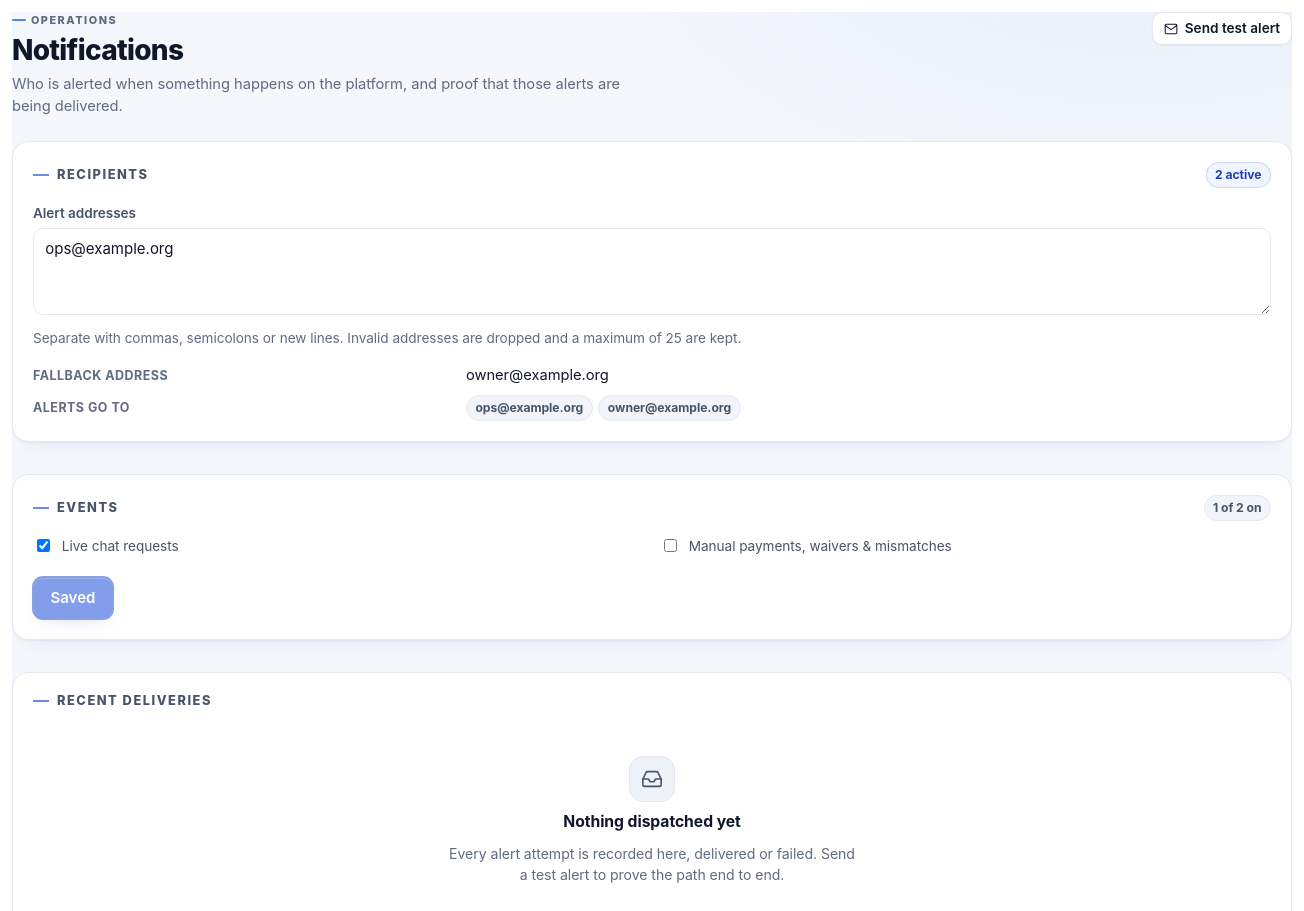
Test case: Admin notifications › surfaces the backend refusal when a test send has no recipients
Click the button "Send test alert": [1222, 29] box [1152, 12, 1292, 45]
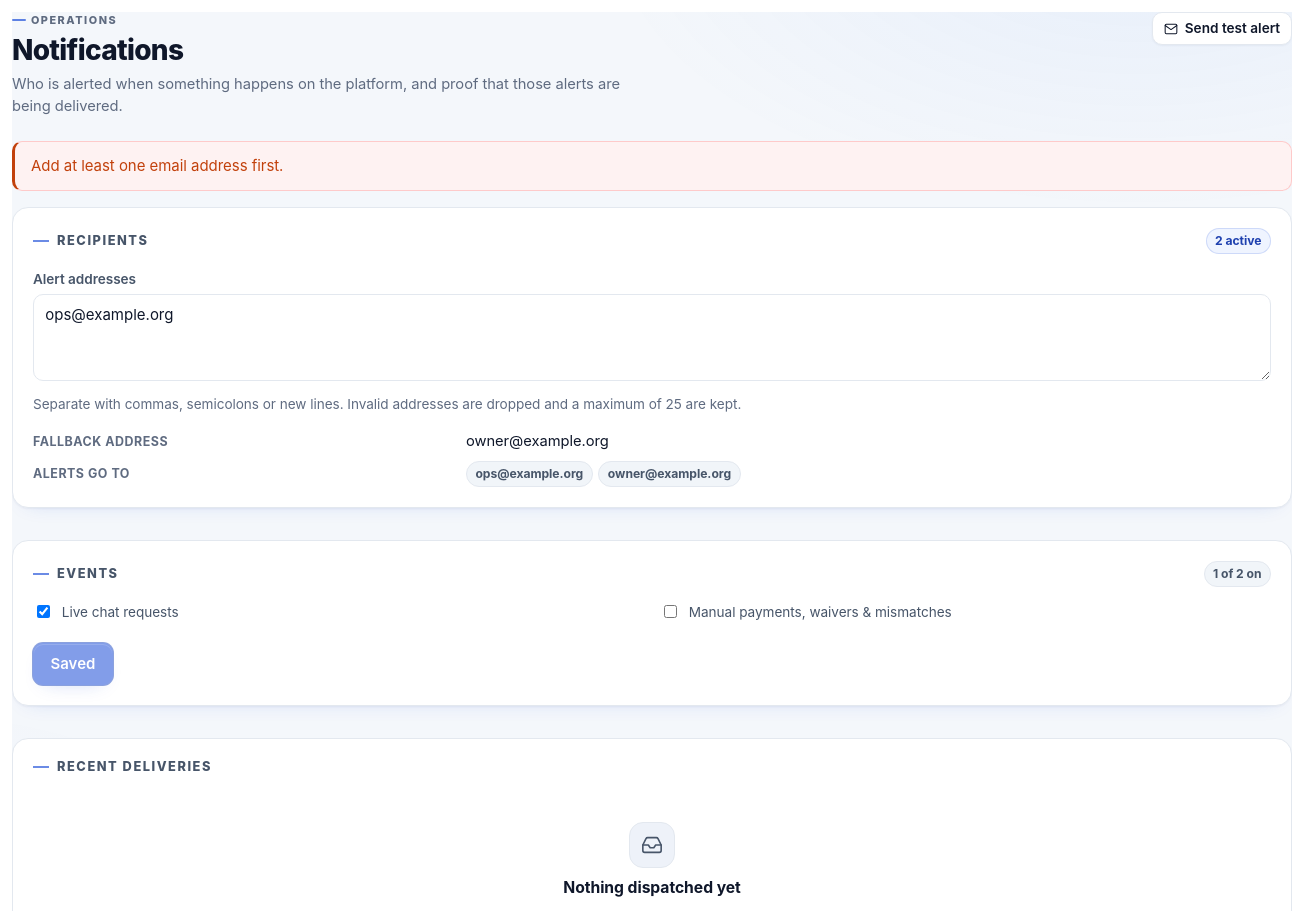
Check: the text "Add at least one email address first." is shown, box [12, 141, 1292, 191]
